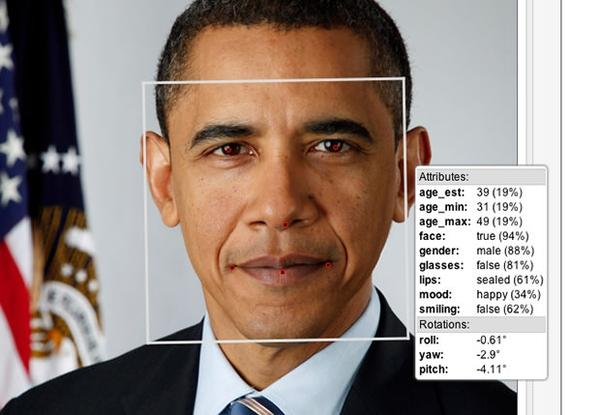no_mask: (156, 48, 397, 330)
